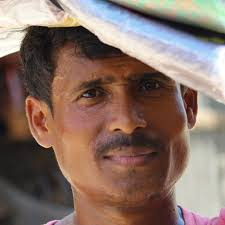s.black: (55, 110, 102, 183)
